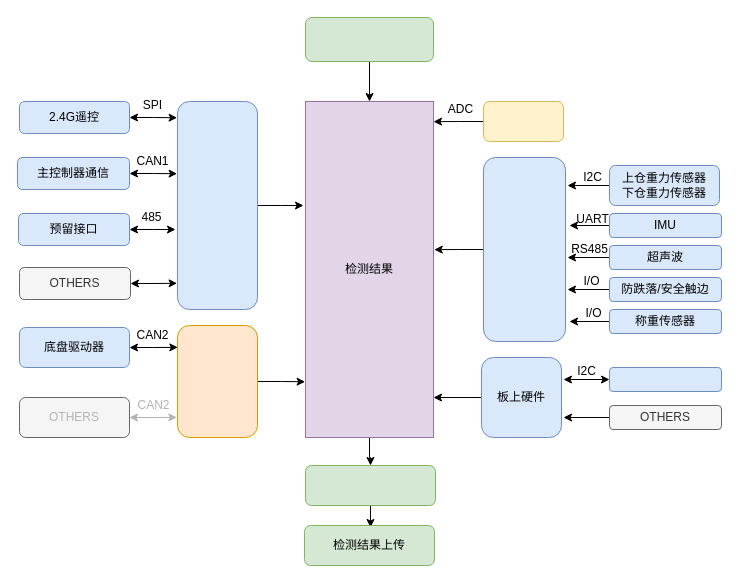
Some shapes in this 739 by 583 pixel diagram are drawn without their labels. Each missing label, with the centre of its shape:
EEPROM: (665,379)
上电检测启动: (369,39)
供电检测: (523,121)
外接传感器: (524,249)
外部通信检测: (217,205)
根据结果选择运行模式: (370,485)
电机驱动: (217,381)
